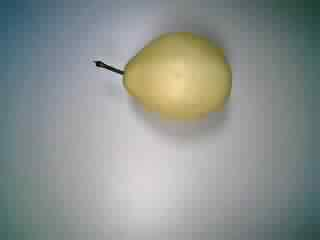pear: (88, 19, 245, 132)
